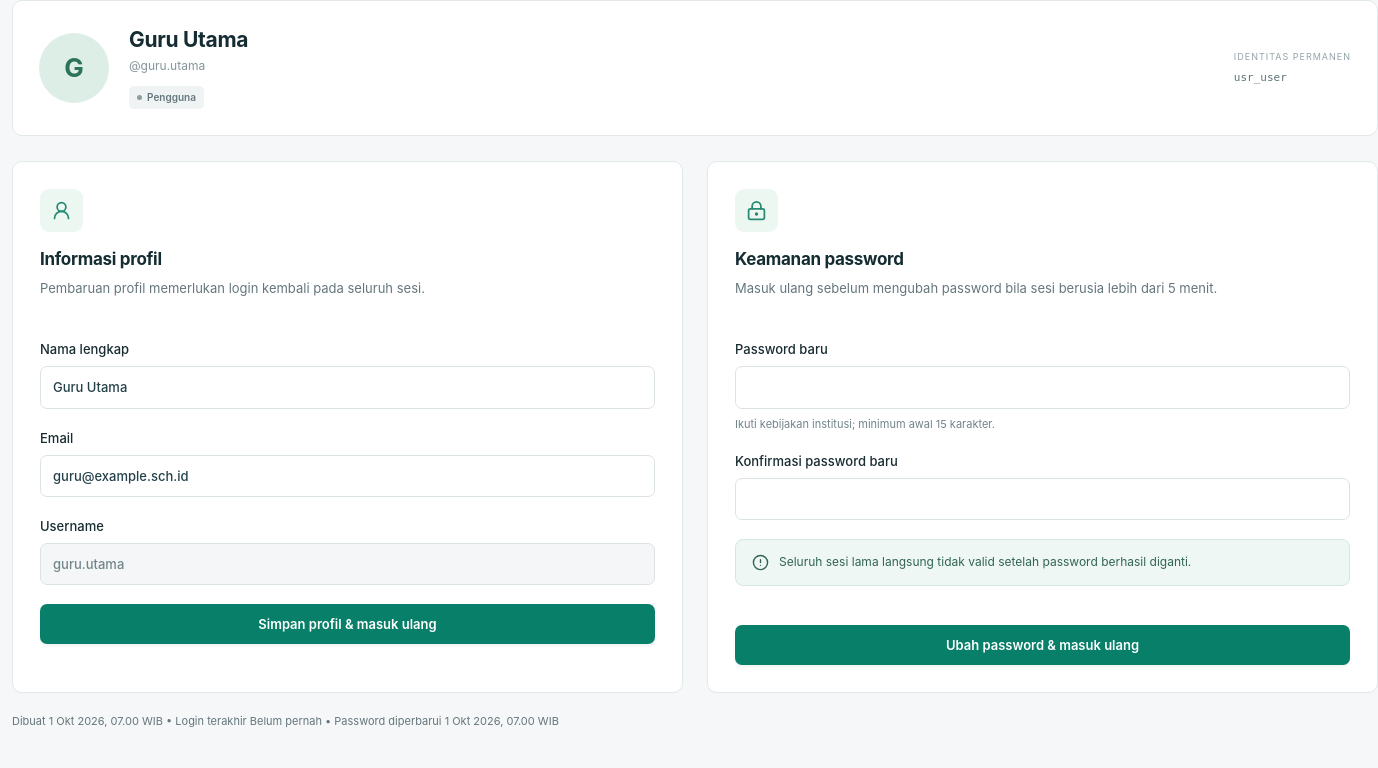
Test case: UI10 konfirmasi password yang berbeda tidak mengirim perubahan ke backend
The image size is (1378, 768).
Expected: the heading "Informasi profil" is shown, [40,249,162,269]
Type "Frasa sandi panjang satu" into the password field labelled "Password baru" at x=1042, y=388, box [735,366,1350,409]
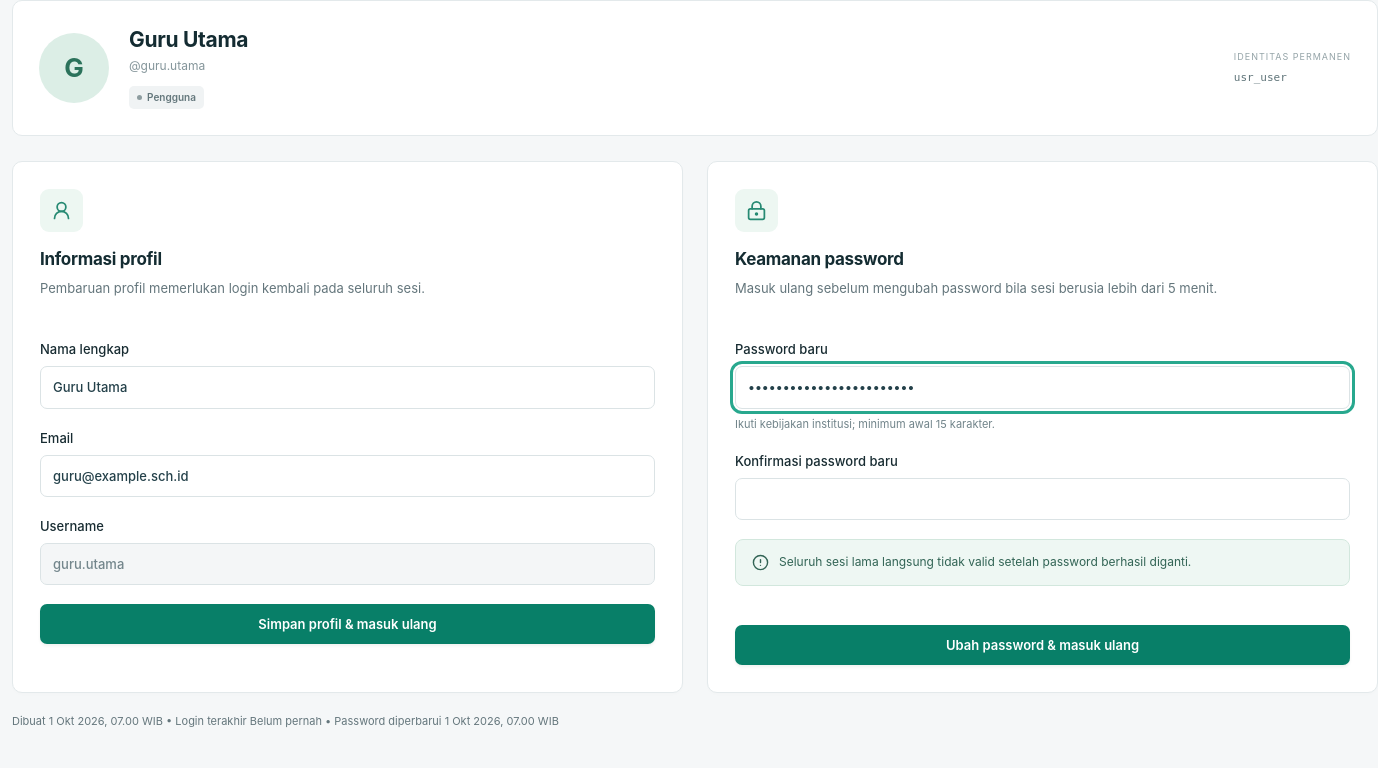
Type "Frasa sandi panjang dua" into the password field labelled "Konfirmasi password baru" at x=1042, y=499, box [735,478,1350,520]
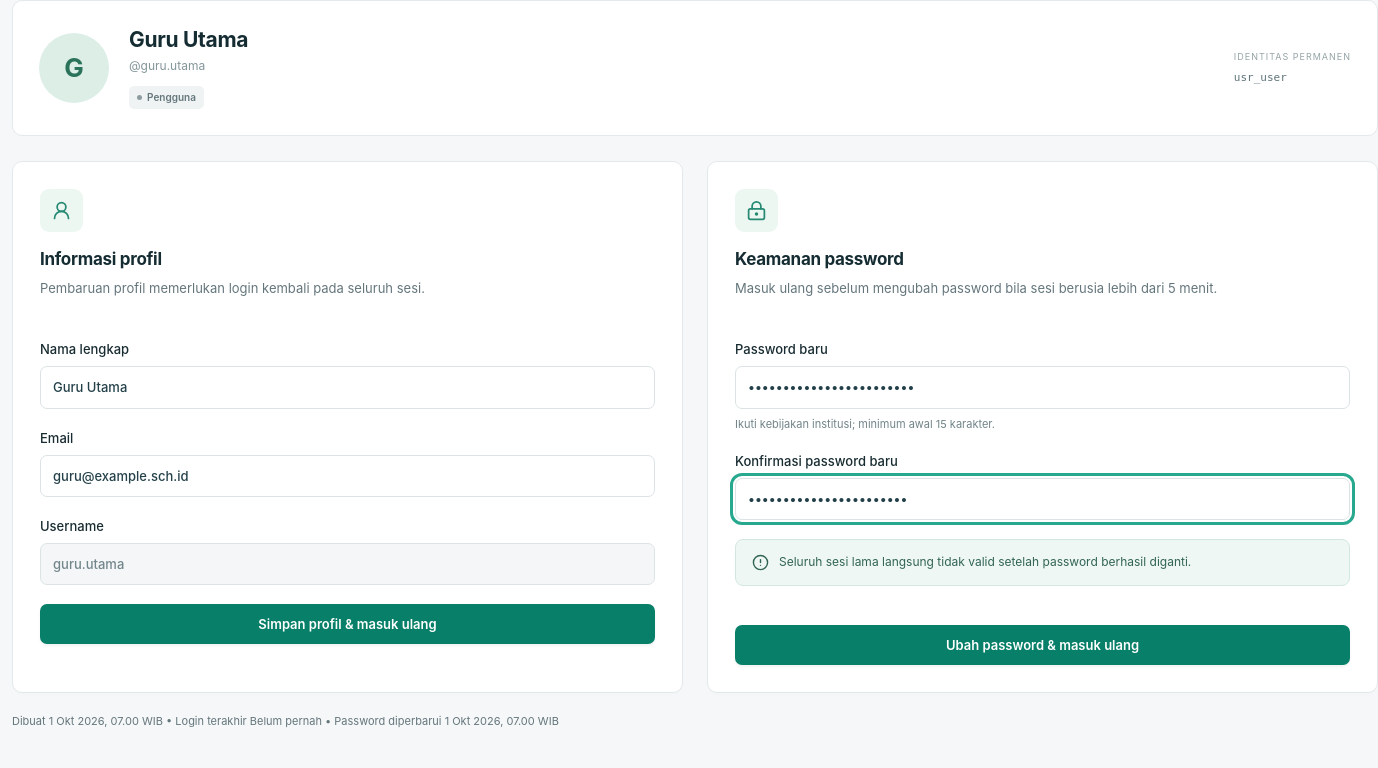
Click the button "Ubah password & masuk ulang" at x=1042, y=645, box [735,625,1350,665]
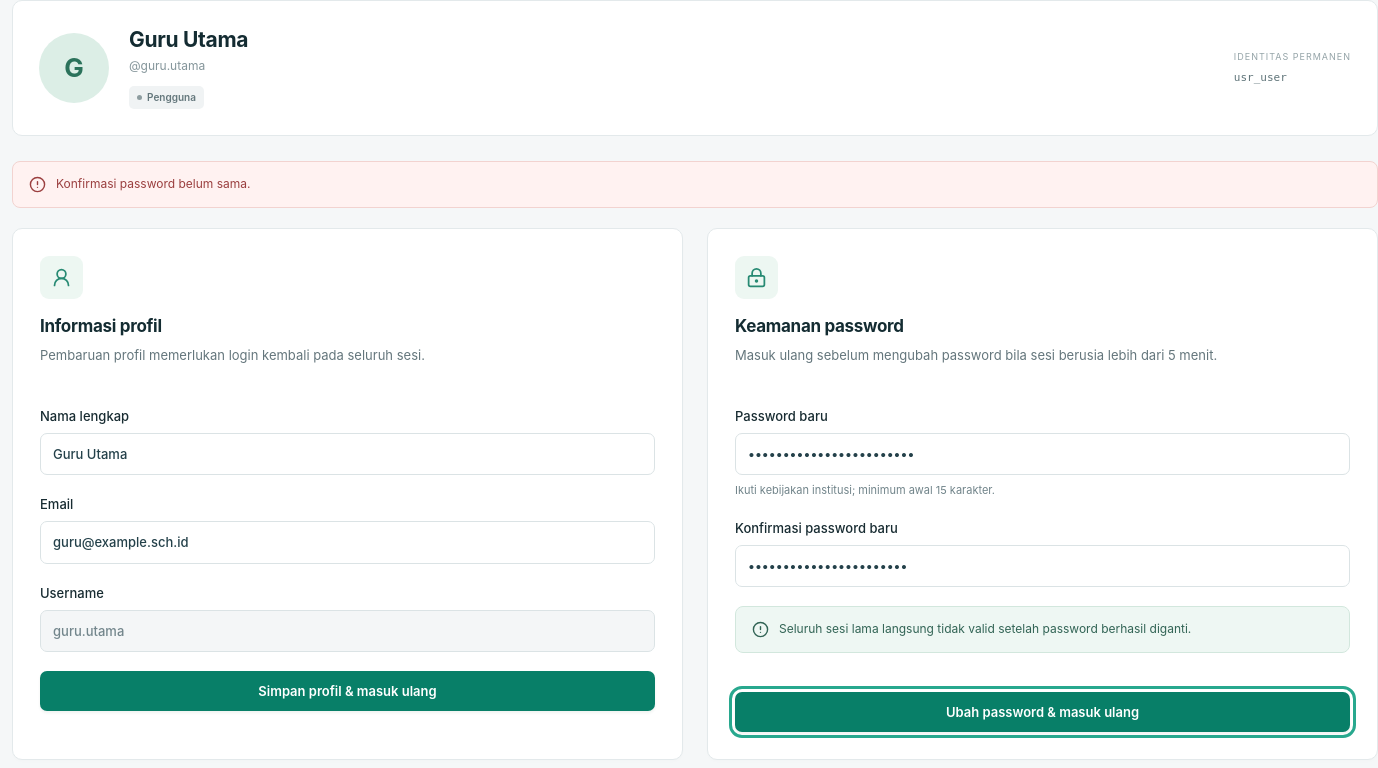
Expected: the message "Konfirmasi password belum sama." is shown, [12,161,1377,208]
